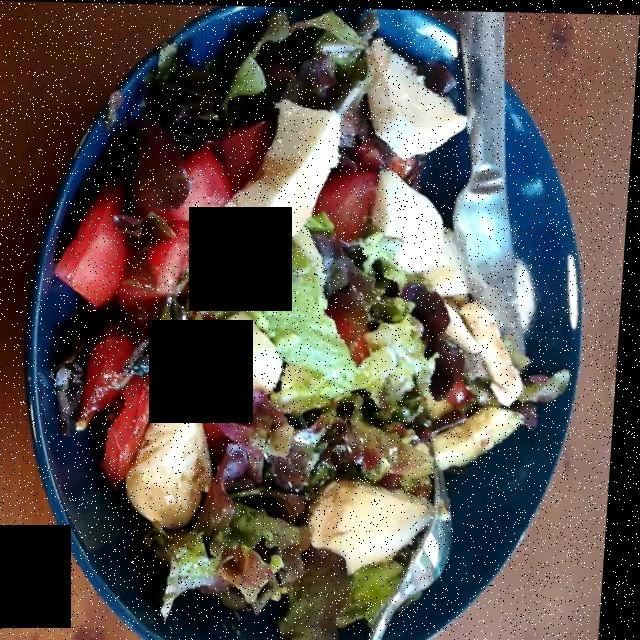cheese: (140, 33, 537, 573)
salad: (104, 30, 485, 637)
